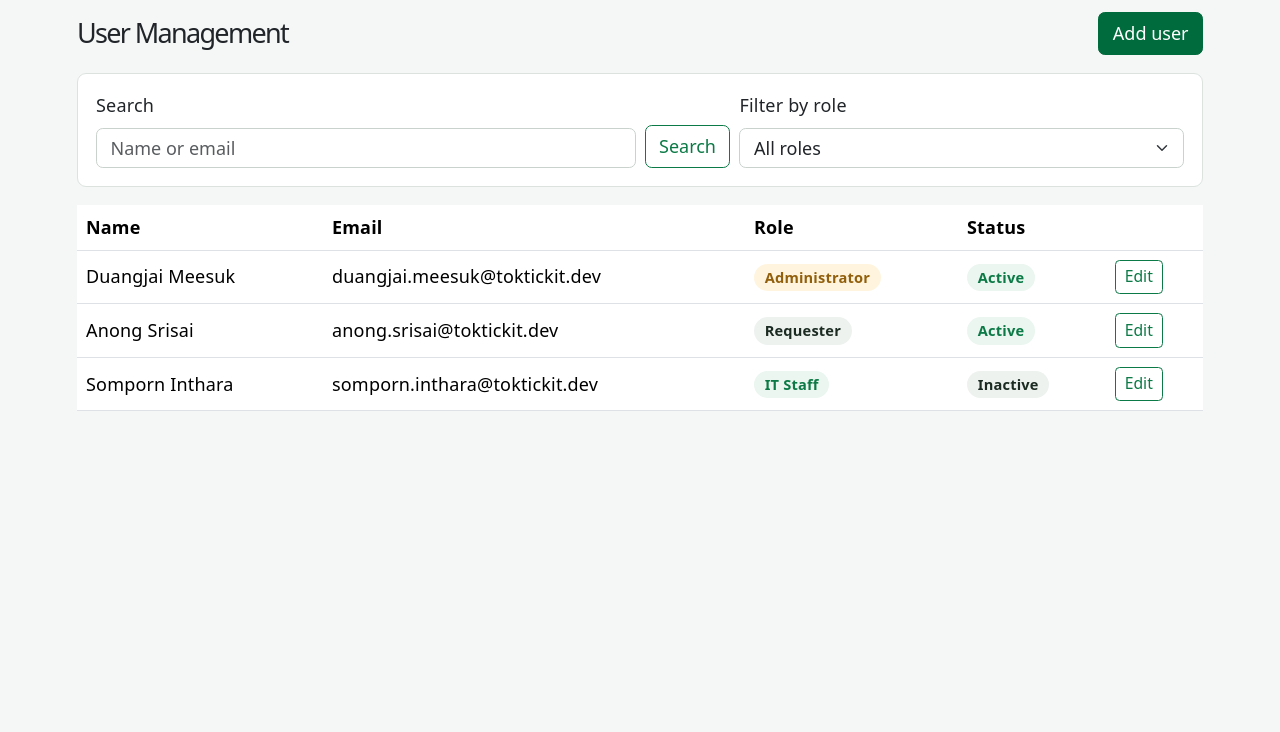
Scenario: UserManagement › UI-06: blocks deactivating your own account with an inline message, without sending a request
Click the button with aria-label "Edit Duangjai Meesuk". click: (1139, 277)
box: [1115, 260, 1163, 294]
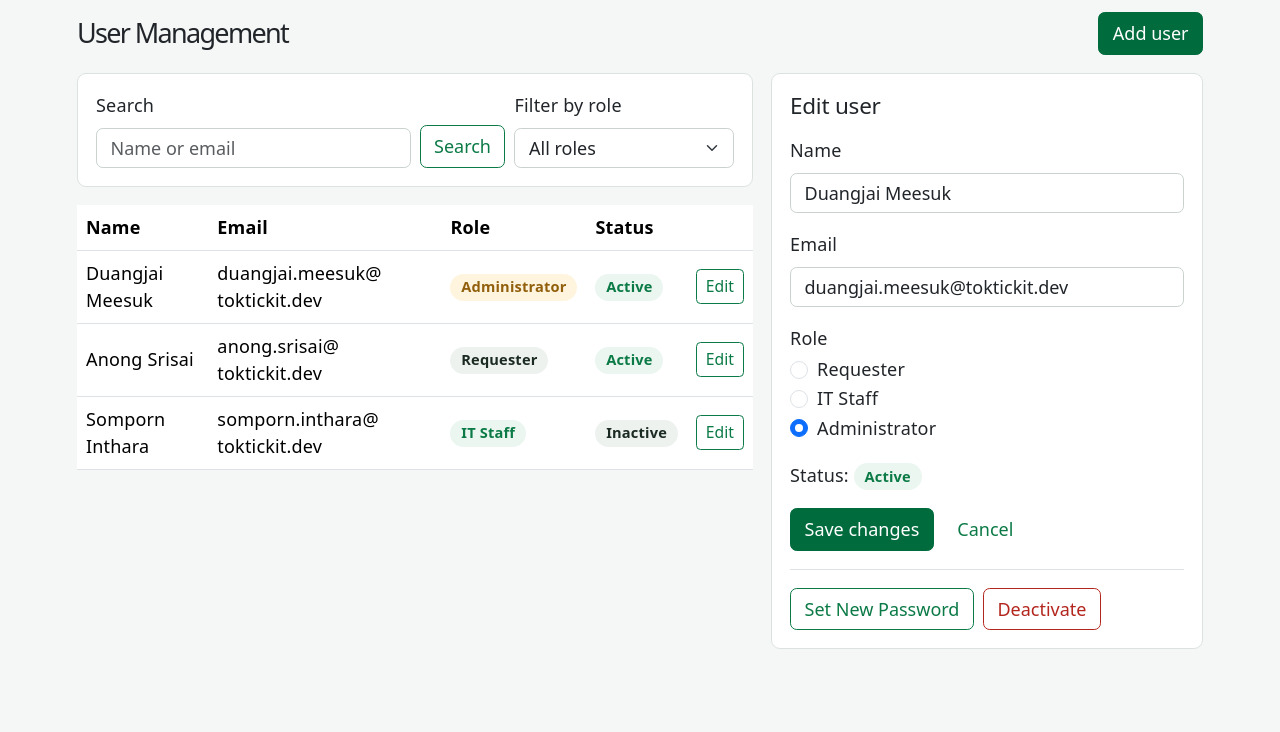
Click the button "Deactivate". click: (1042, 609)
box: [983, 588, 1101, 630]
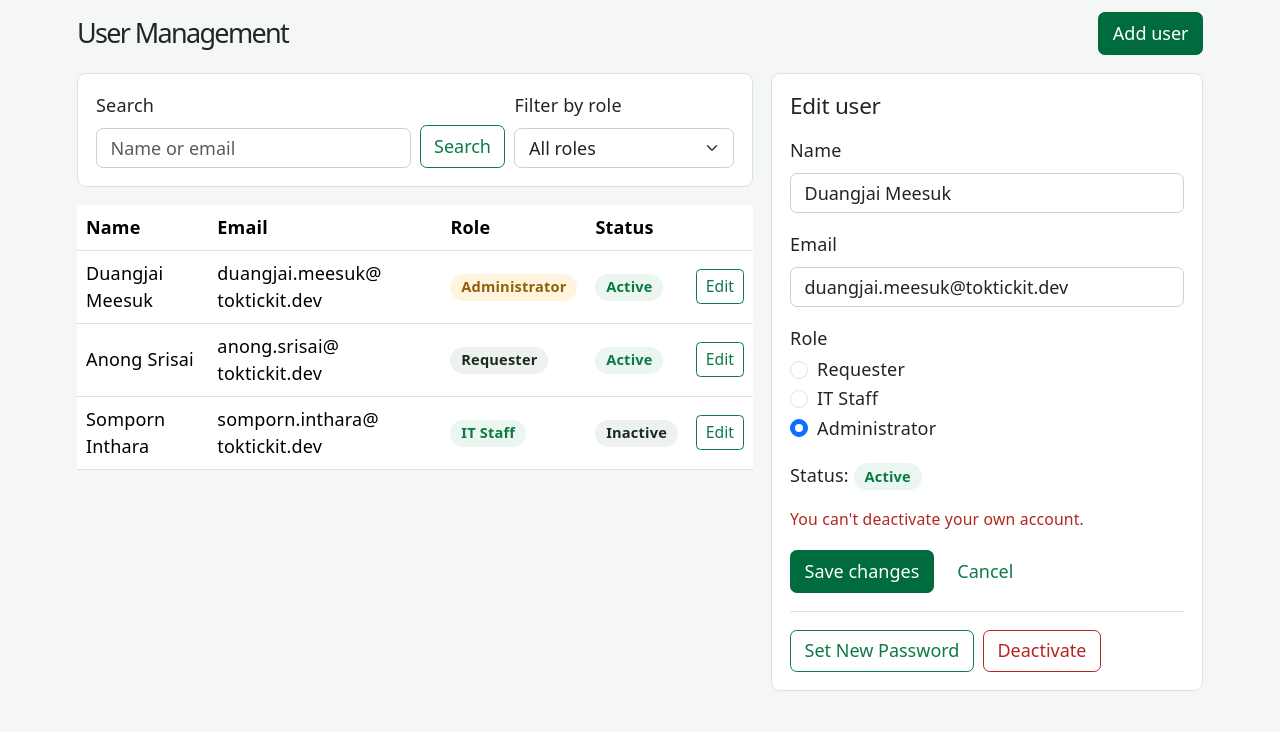
Expected: the text "You can't deactivate your own account." is shown, [790, 508, 1084, 530]
